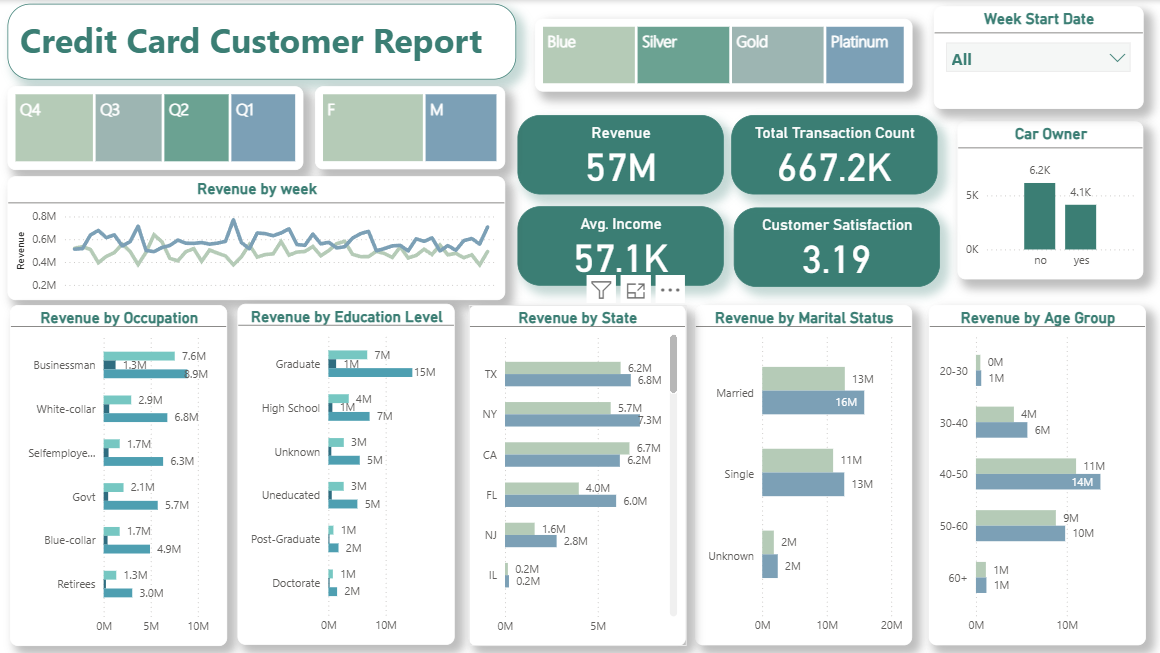

The page's visual inventory and layout, read from the dashboard file:
{"tool":"powerbi","page":{"name":"Customer Report","canvas":[1280,720],"ordinal":0},"visuals":[{"type":"clusteredColumnChart","title":"Car Owner","fields":{"Y":["CountNonNull(public cust_detail.client_num)"],"Category":["public cust_detail.car_owner"]},"box":[1051.2,133.8,203.8,173.8],"z":0},{"type":"textbox","box":[8.4,3.9,558.6,82.9],"z":1000},{"type":"card","title":"Revenue","fields":{"Values":["Sum(public cc_detail.Revenue)"]},"box":[568.2,126.4,226,87],"z":2000},{"type":"card","title":"Avg. Income","fields":{"Values":["Avg(public cust_detail.income)"]},"box":[568.5,226.4,226,87],"z":3000},{"type":"card","title":"Customer Satisfaction","fields":{"Values":["Avg(public cust_detail.cust_satisfaction_score)"]},"box":[805.8,228.2,226,87],"z":4000},{"type":"card","title":"Total Transaction Count","fields":{"Values":["Sum(public cc_detail.total_trans_ct)"]},"box":[802.6,126.7,226,87],"z":5000},{"type":"slicer","title":"Week Start Date","fields":{"Values":["public cc_detail.week_start_date"]},"box":[1025.7,7.1,230,112.9],"z":6000},{"type":"treemap","fields":{"Group":["public cc_detail.qtr"],"Values":["Sum(public cc_detail.client_num)"]},"box":[8.7,94.1,325,91.7],"z":7000},{"type":"treemap","fields":{"Values":["Sum(public cc_detail.client_num)"],"Group":["public cust_detail.gender"]},"box":[345.9,94.1,208.6,91.4],"z":8000},{"type":"treemap","fields":{"Values":["Max(public cc_detail.client_num)"],"Group":["public cc_detail.card_category"]},"box":[587.1,20,414.3,80],"z":9000},{"type":"lineChart","title":"Revenue by week","fields":{"Y":["Sum(public cc_detail.Revenue)"],"Series":["public cust_detail.gender"],"Category":["public cc_detail.week_start_date.Variation.Date Hierarchy.Year","public cc_detail.week_start_date.Variation.Date Hierarchy.Month","public cc_detail.week_start_date.Variation.Date Hierarchy.Day"]},"box":[8.4,193,546.2,136.2],"z":10000},{"type":"clusteredBarChart","title":"Revenue by Marital Status","fields":{"Category":["public cust_detail.marital_status"],"Y":["Sum(public cc_detail.Revenue)"],"Series":["public cust_detail.gender"]},"box":[763.3,335,238.3,373.3],"z":11000},{"type":"clusteredBarChart","title":"Revenue by Age Group","fields":{"Category":["public cust_detail.AgeGroup"],"Y":["Sum(public cc_detail.Revenue)"],"Series":["public cust_detail.gender"]},"box":[1020,335,238.3,373.3],"z":12000},{"type":"clusteredBarChart","title":"Revenue by Occupation","fields":{"Category":["public cust_detail.customer_job"],"Y":["Sum(public cc_detail.Revenue)"],"Series":["public cc_detail.use_chip"]},"box":[10.3,335,238.6,374],"z":13000},{"type":"clusteredBarChart","title":"Revenue by Education Level","fields":{"Category":["public cust_detail.education_level"],"Y":["Sum(public cc_detail.Revenue)"],"Series":["public cc_detail.use_chip"]},"box":[260.3,333.6,238.6,374],"z":14000},{"type":"clusteredBarChart","title":"Revenue by State","fields":{"Category":["public cust_detail.state_cd"],"Y":["Sum(public cc_detail.Revenue)"],"Series":["public cust_detail.gender"]},"box":[515,335,238,374],"z":15000}]}

Visuals, with their boxes in screenshot pixels (x1, y1, x2, y2), scaled from the page's 1280x720 canvas onto the 1160x653 screenshot:
"Car Owner" clusteredColumnChart: locate(953, 121, 1137, 279)
textbox: locate(8, 4, 514, 79)
"Revenue" card: locate(515, 115, 720, 194)
"Avg. Income" card: locate(515, 205, 720, 284)
"Customer Satisfaction" card: locate(730, 207, 935, 286)
"Total Transaction Count" card: locate(727, 115, 932, 194)
"Week Start Date" slicer: locate(930, 6, 1138, 109)
treemap - public cc_detail.qtr x Sum(public cc_detail.client_num): locate(8, 85, 302, 169)
treemap - Sum(public cc_detail.client_num) x public cust_detail.gender: locate(313, 85, 503, 168)
treemap - Max(public cc_detail.client_num) x public cc_detail.card_category: locate(532, 18, 908, 91)
"Revenue by week" lineChart: locate(8, 175, 503, 299)
"Revenue by Marital Status" clusteredBarChart: locate(692, 304, 908, 642)
"Revenue by Age Group" clusteredBarChart: locate(924, 304, 1140, 642)
"Revenue by Occupation" clusteredBarChart: locate(9, 304, 226, 643)
"Revenue by Education Level" clusteredBarChart: locate(236, 303, 452, 642)
"Revenue by State" clusteredBarChart: locate(467, 304, 682, 643)
